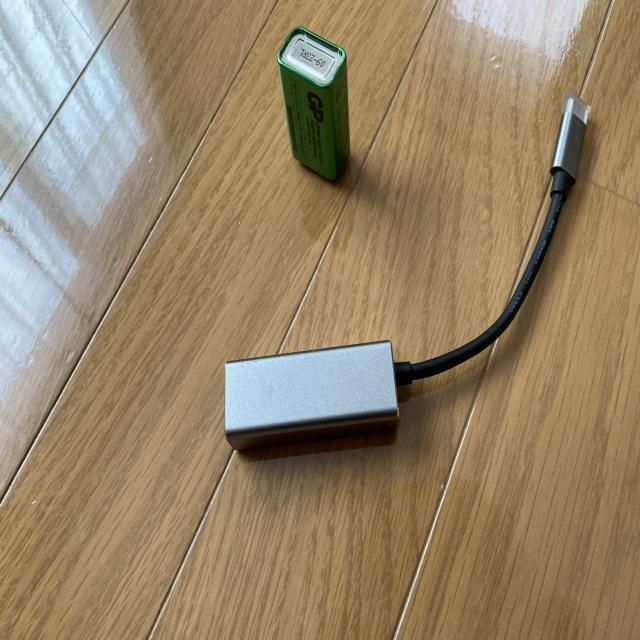9V: (276, 26, 350, 181)
